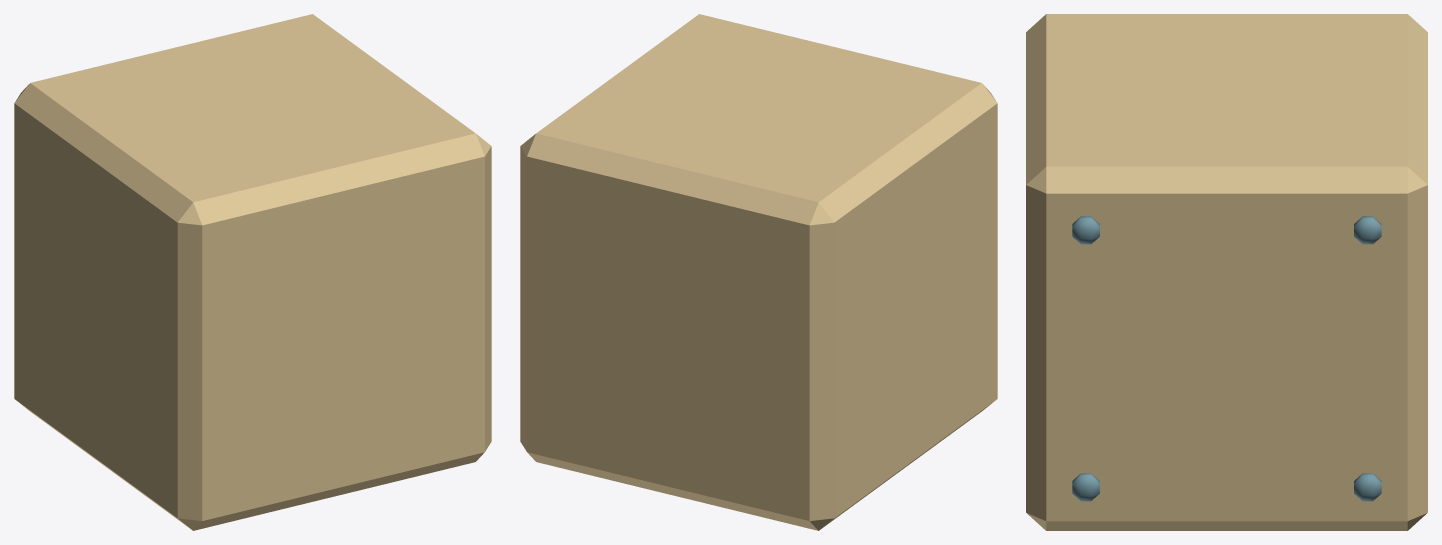
File: Block.fbx
3 renders of one model, left to right at view 1: azimuth 30°, elevation 25°; view 2: azimuth 150°, elevation 25°; view 3: azimuth 270°, elevation 25°, orthographic. The views are drawn at different scales.
Visible parts, largest first — view 1: Cube; view 2: Cube; view 3: Cube.
Part boxes in pixels (bbox=[...]): Cube: bbox=[14, 14, 491, 530]; Cube: bbox=[520, 14, 997, 530]; Cube: bbox=[1026, 14, 1427, 530].
Size of the model in its own units: 206 by 200 by 200.
